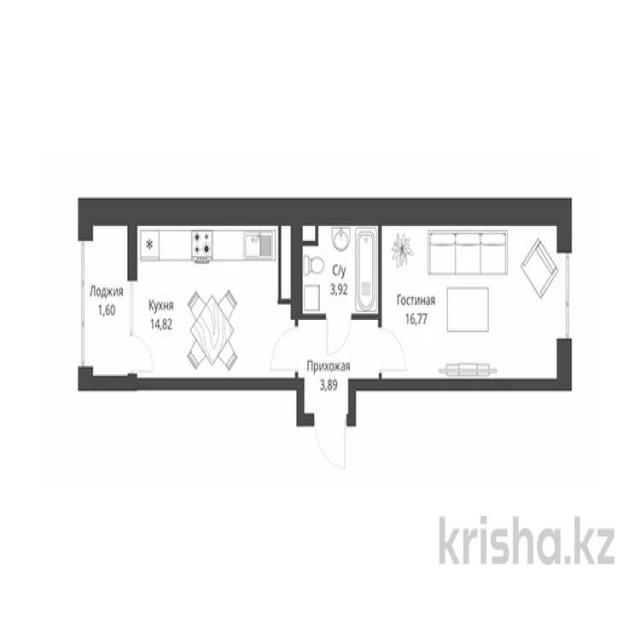balcony: (78, 210, 134, 384)
bathroom: (300, 211, 378, 313)
hallway: (298, 322, 348, 417)
kitchen: (134, 214, 294, 380)
living_room: (378, 215, 568, 388)
